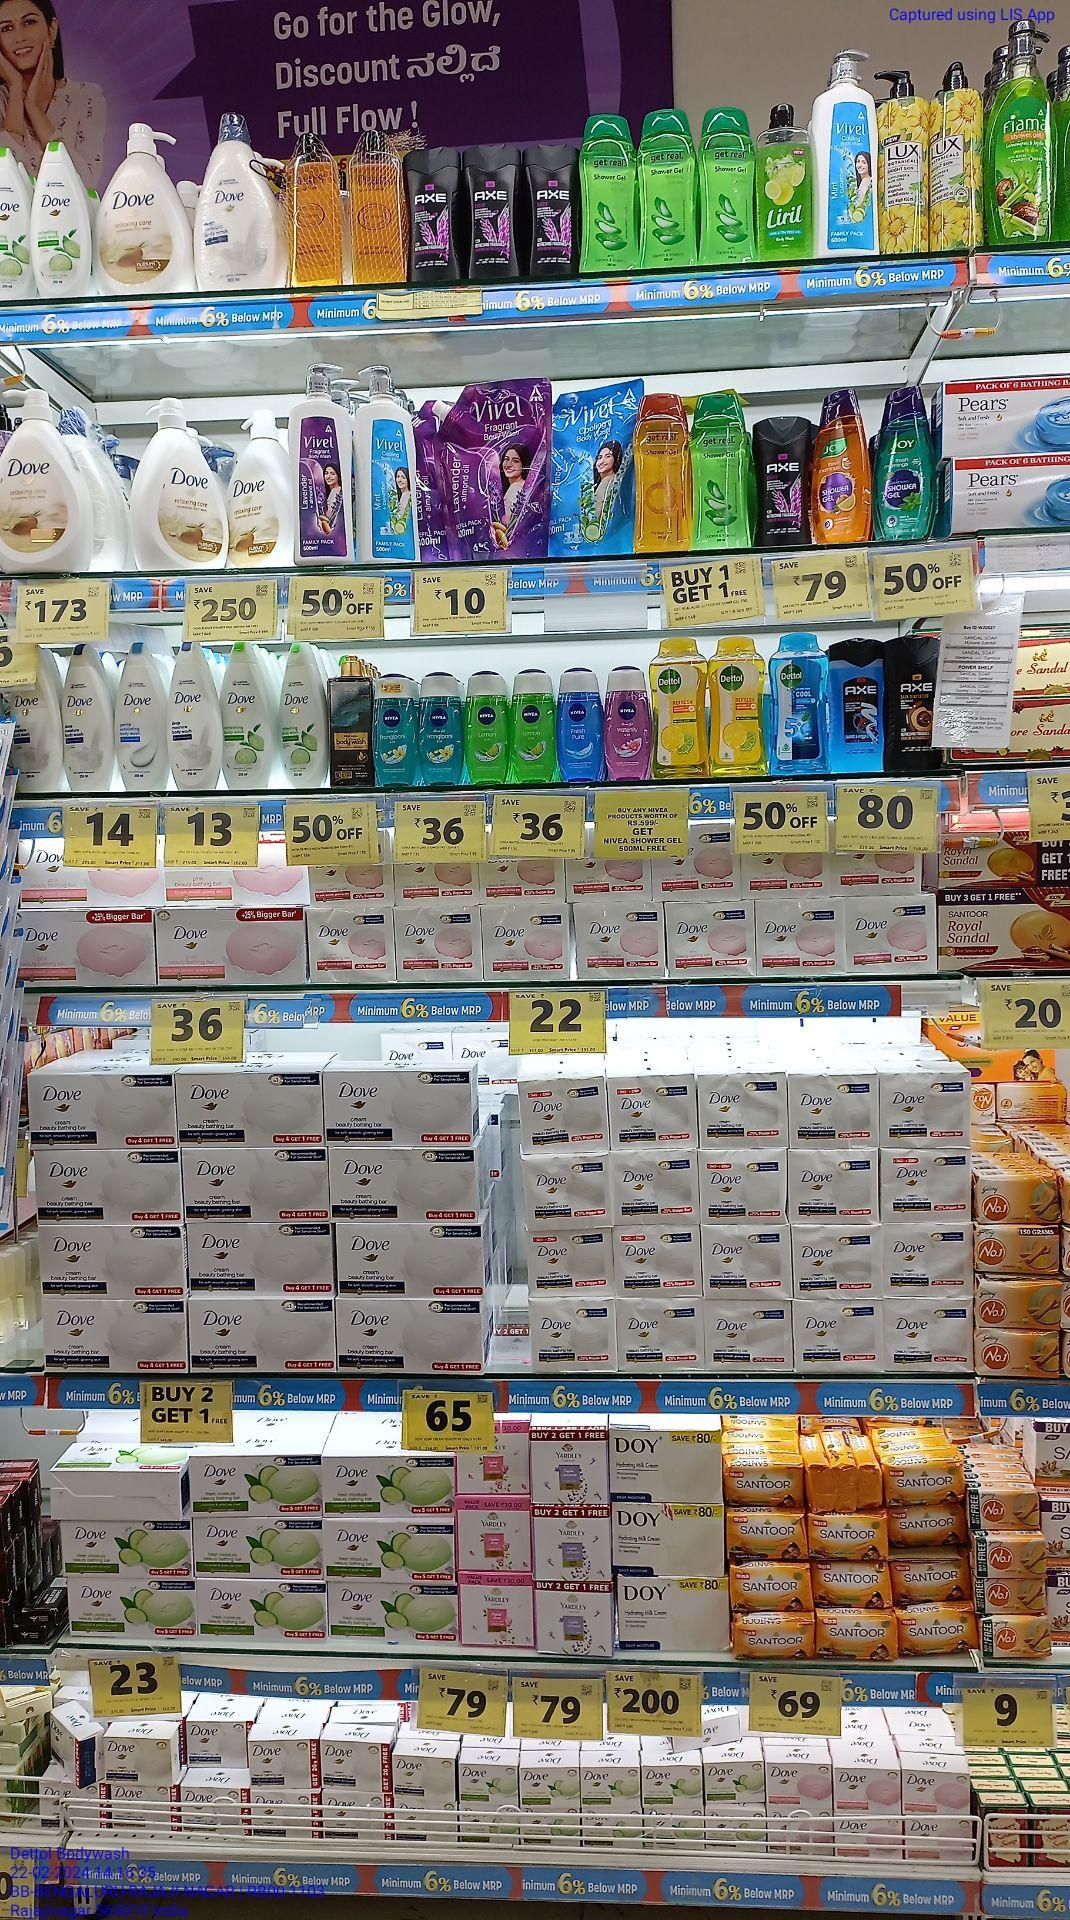Dettol_Bodywash_Cool: (768, 633, 829, 775)
Dettol_Bodywash_Refresh: (654, 635, 710, 779), (713, 635, 767, 777)
Dove_Deep_Moisture_Body_Wash_250ML: (62, 639, 117, 791), (170, 640, 223, 789)
Dove_Gentle_Exfoliating_Body_Wash_250ML: (120, 639, 167, 789)
Dove_Refreshing_Body_Wash_250ML: (30, 140, 92, 299), (275, 642, 328, 788), (224, 640, 273, 791)
Get_Real_Shower_Gel_Moisturising_Glycerin_300ML: (635, 391, 690, 552)
Joy_Shower_Gel_Mandarin_and_Lemongrass_250ML: (812, 389, 871, 543)
Joy_Shower_Gel_Mint_and_Eucalyptus_250ML: (875, 385, 932, 540)
Liril_Lime_and_Tea_Tree_Oil_Body_Wash_250ML: (758, 103, 813, 260)
Nivea_Shower_Gel_Frangipani_and_Oil_250ML: (376, 679, 420, 788), (423, 672, 465, 788)
Nivea_Shower_Gel_Lemon_and_Oil_250ML: (511, 665, 555, 784), (466, 669, 510, 785)
Nivea_Shower_Gel_Waterlily_and_Oil_250ML: (605, 665, 652, 779)
